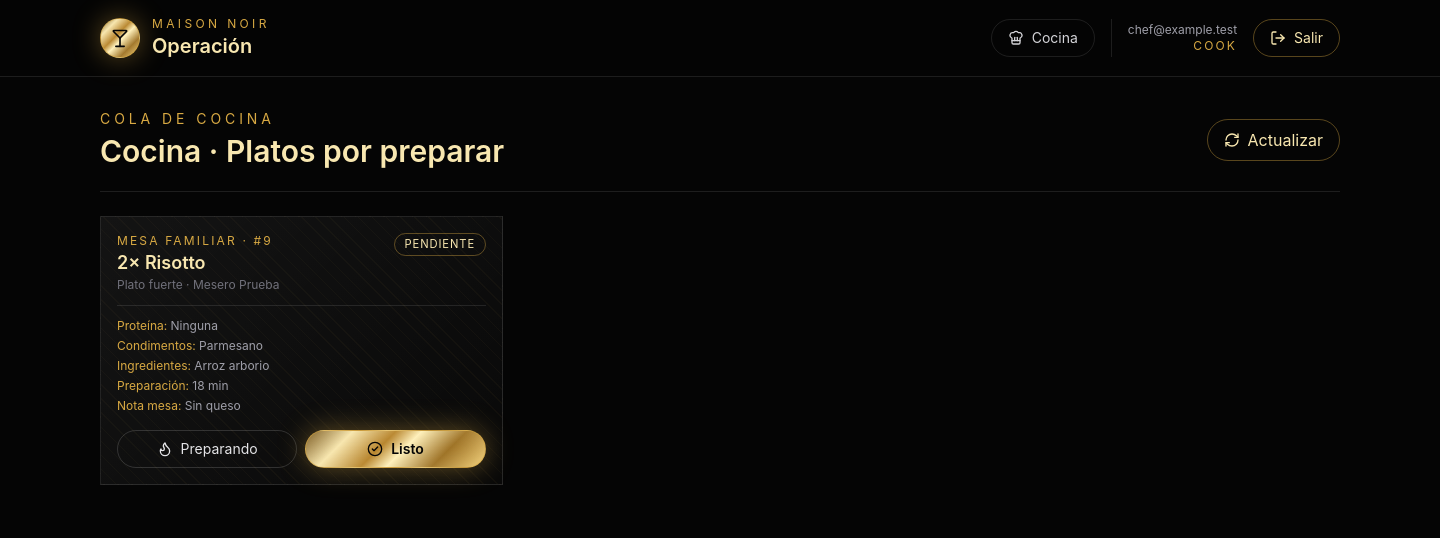
Test case: KitchenPage › muestra el error de la API sin perder la cola
Click the button "Preparando" at (207, 448), box [117,430,297,468]
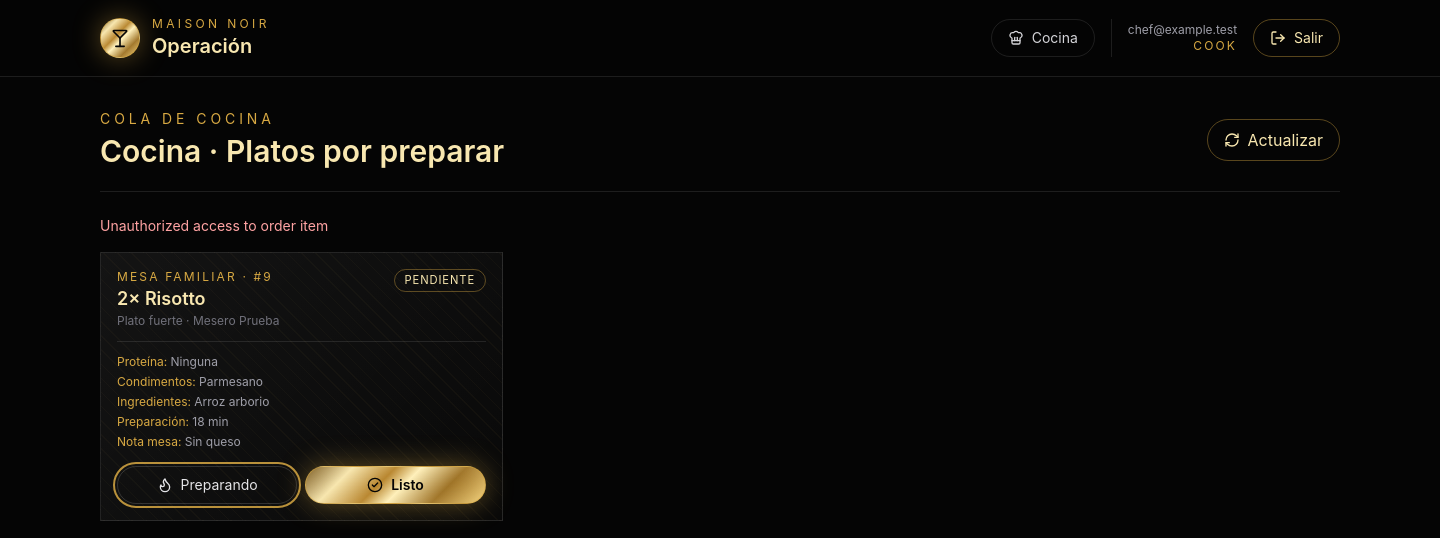
Expected: the heading "2× Risotto" is shown, [117,288,206,308]
Result: the text "Unauthorized access to order item" is shown at [100,216,328,234]
